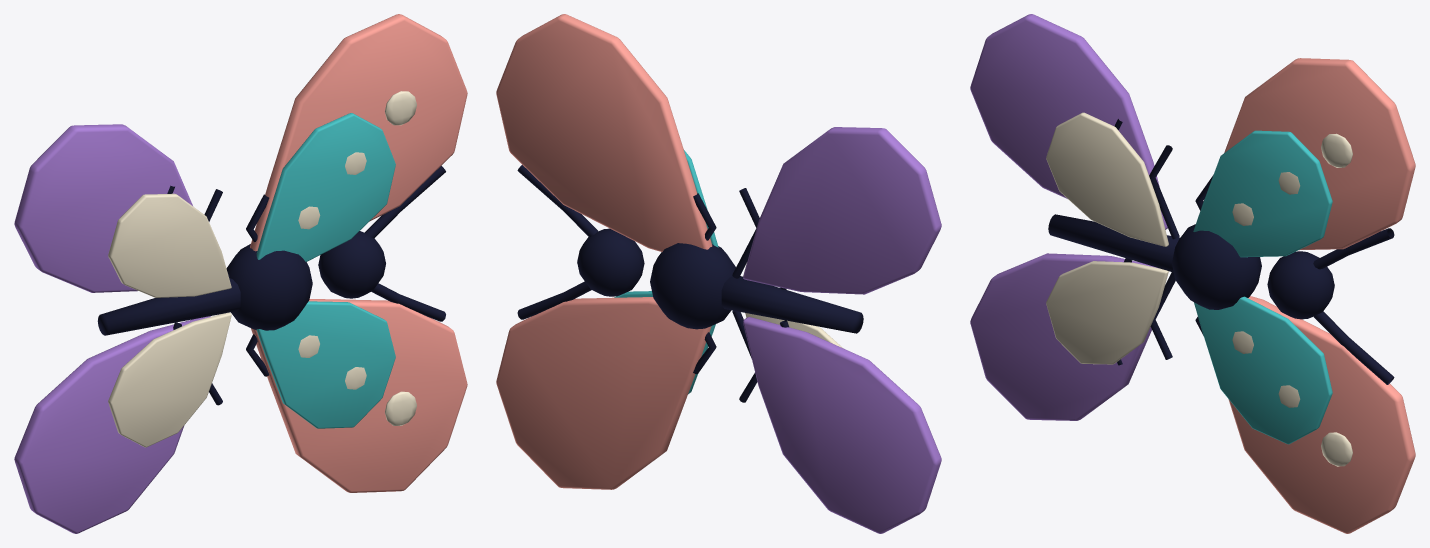
The model's file is r048_butterfly_world_butterfly_environment_family_butterfly_01.glb.
3 renders of one model, left to right at view 1: azimuth 30°, elevation 25°; view 2: azimuth 150°, elevation 25°; view 3: azimuth 330°, elevation 25°, orthographic.
Visible parts, largest first — view 1: r048_butterfly_world_butterfly_environment_family_butterfly_; view 2: r048_butterfly_world_butterfly_environment_family_butterfly_; view 3: r048_butterfly_world_butterfly_environment_family_butterfly_.
Boxes of the visible parts, <box> form: r048_butterfly_world_butterfly_environment_family_butterfly_: <box>14,14,467,533</box>; r048_butterfly_world_butterfly_environment_family_butterfly_: <box>496,14,941,533</box>; r048_butterfly_world_butterfly_environment_family_butterfly_: <box>970,14,1415,533</box>.
Size of the model in its own units: 3.26 by 3.31 by 0.5.
